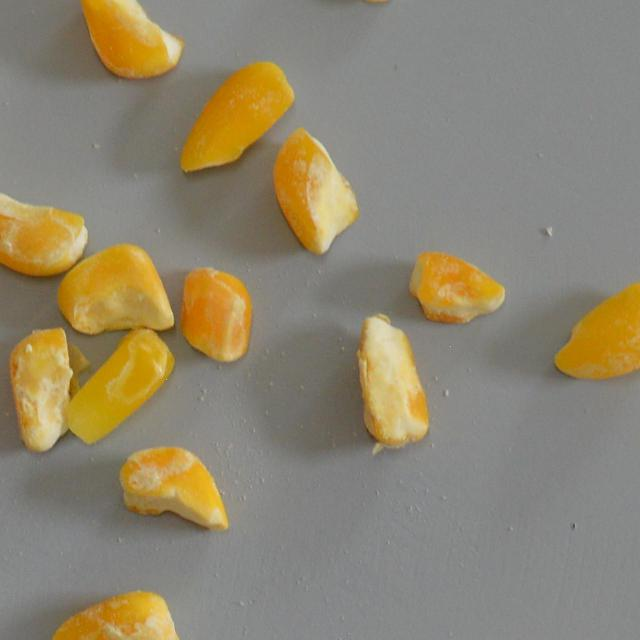estandar: (176, 58, 297, 176), (76, 0, 184, 83)
pelicula: (336, 317, 430, 452), (66, 316, 160, 449), (130, 426, 224, 553), (56, 242, 175, 333), (248, 150, 379, 230), (6, 325, 88, 452), (564, 268, 640, 400), (414, 238, 500, 330), (166, 275, 266, 354), (0, 151, 44, 313), (68, 568, 162, 640), (312, 0, 392, 14)
